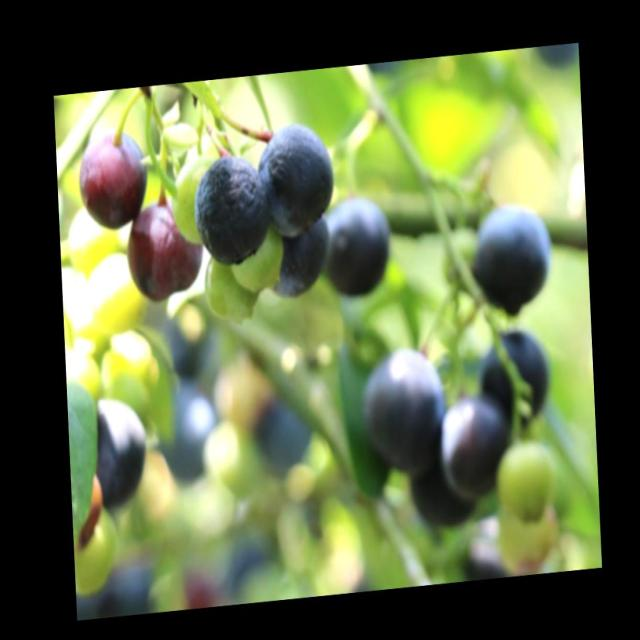blueberry: (359, 343, 447, 467), (476, 194, 556, 318), (251, 120, 331, 237), (189, 154, 269, 267), (321, 189, 391, 303), (438, 393, 506, 492)
blueberry-halfripe: (123, 198, 206, 306), (75, 125, 151, 234)
blueberry-unripe: (496, 434, 560, 526), (202, 244, 260, 326), (168, 152, 215, 246), (230, 226, 284, 291)
